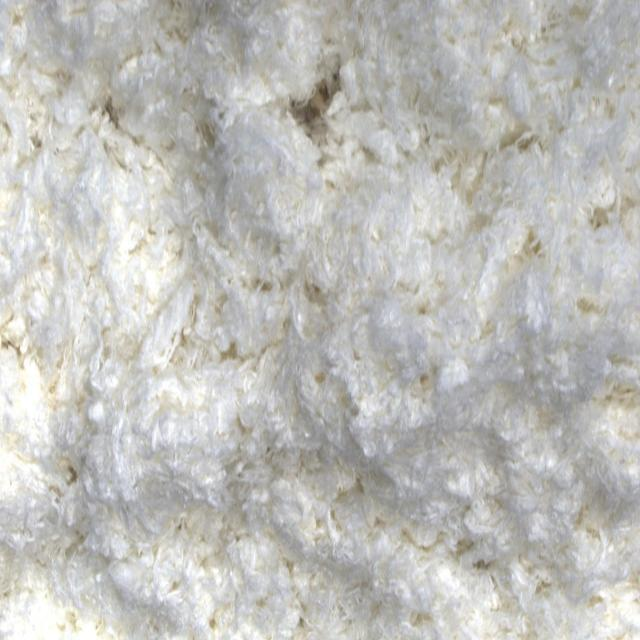dust: (279, 65, 348, 145)
